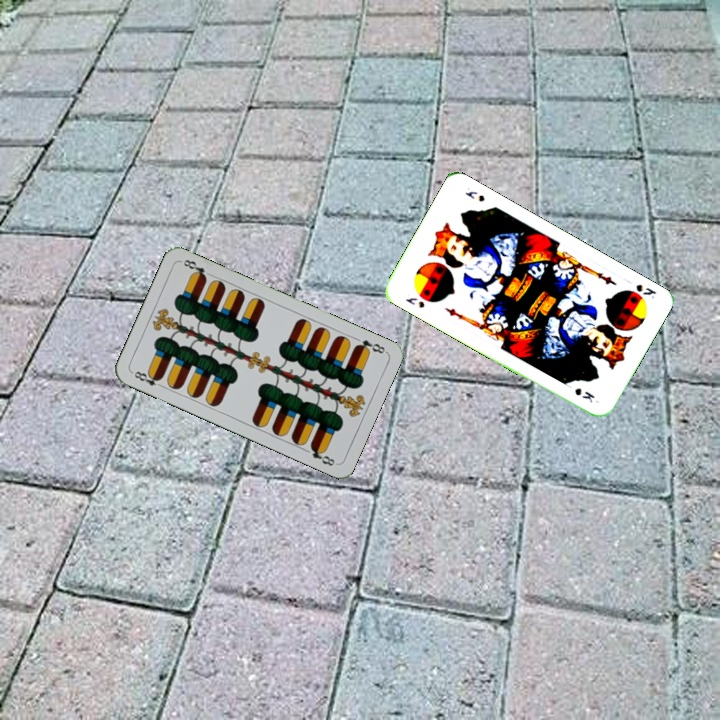E8: (350, 333, 389, 357), (128, 367, 166, 391)
SK: (632, 280, 659, 301), (401, 293, 427, 311)
